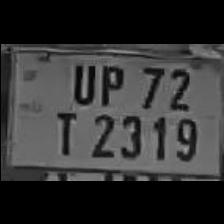1: (144, 109, 170, 159)
2: (84, 108, 114, 158), (162, 64, 192, 108)
3: (115, 108, 143, 158)
7: (132, 60, 164, 108)
9: (169, 111, 198, 159)
P: (93, 60, 126, 104)
T: (50, 104, 80, 156)
U: (64, 56, 96, 103)
